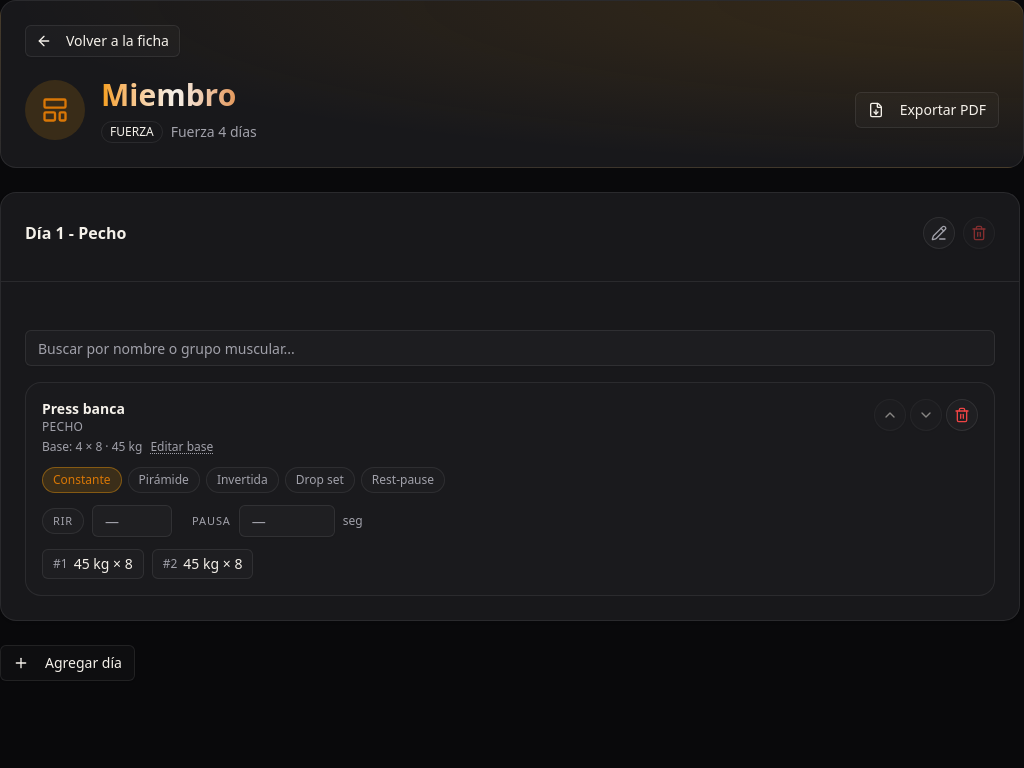
Scenario: editor de la copia de rutina de un Miembro › recalcula el plan de la copia al confirmar una base nueva, sin guardar
Expected: the text "Press banca" is shown, [42,399,125,418]
Click the button "Editar base" at (182, 447), box [150,439,213,455]
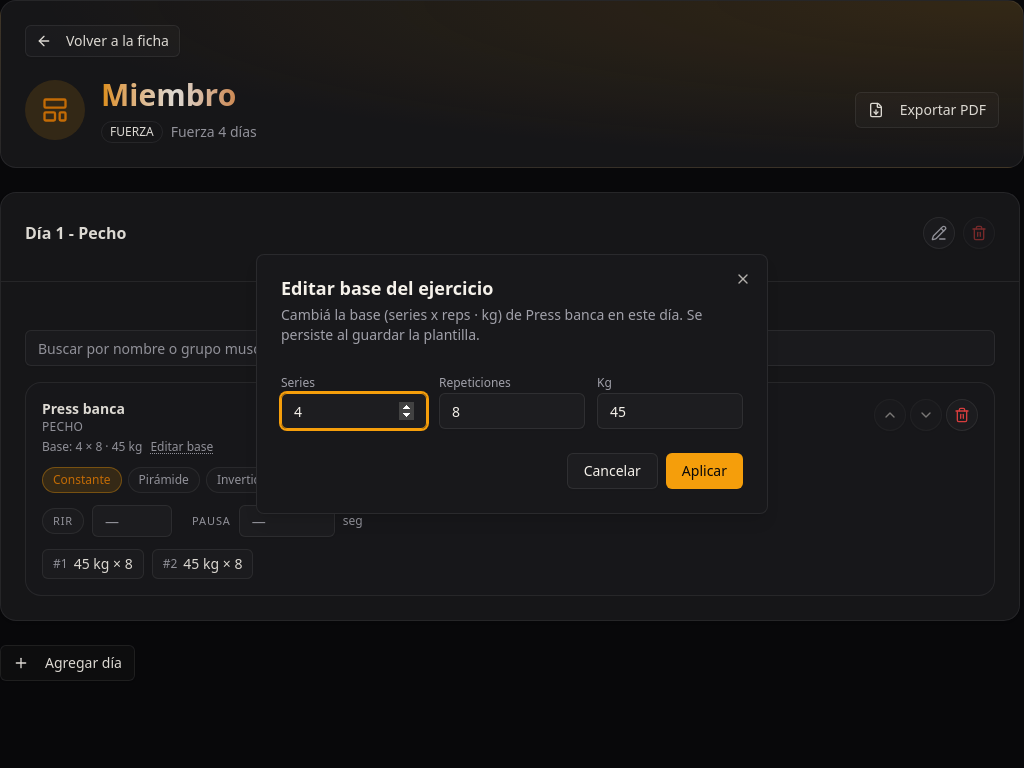
Replace the text in the 1st number field with "5" at (354, 411), box [281,393,427,429]
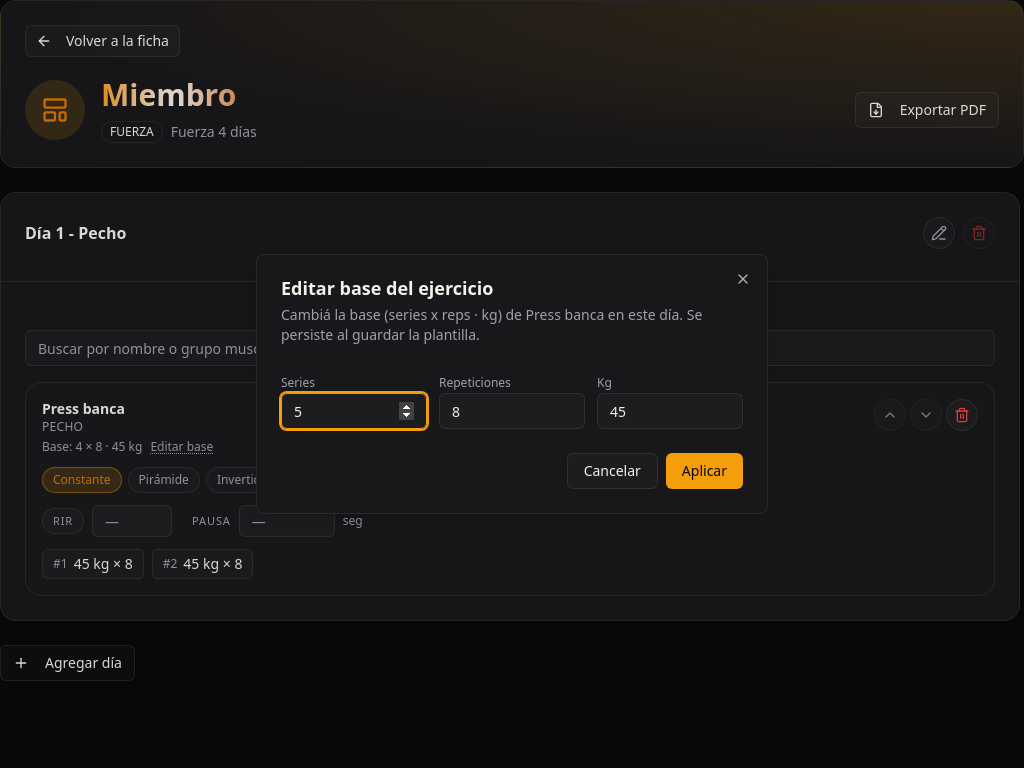
Replace the text in the number field below "Repeticiones" with "6" at (512, 411), box [439,393,585,429]
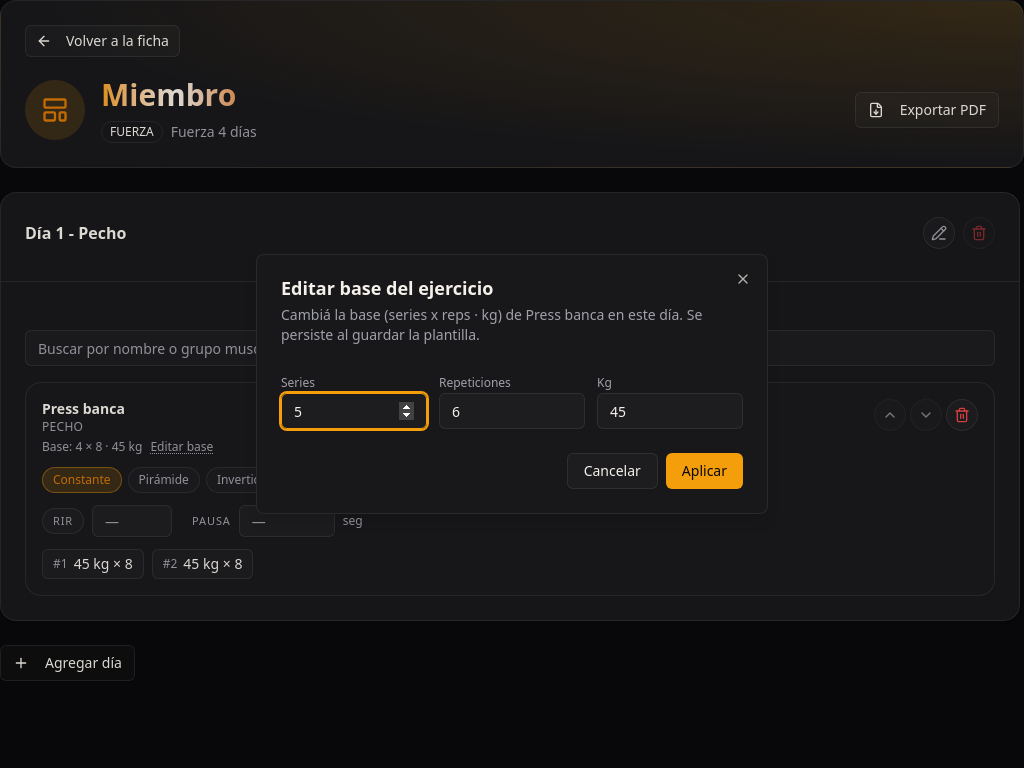
Replace the text in the 3rd number field with "50" at (670, 411), box [597,393,743,429]
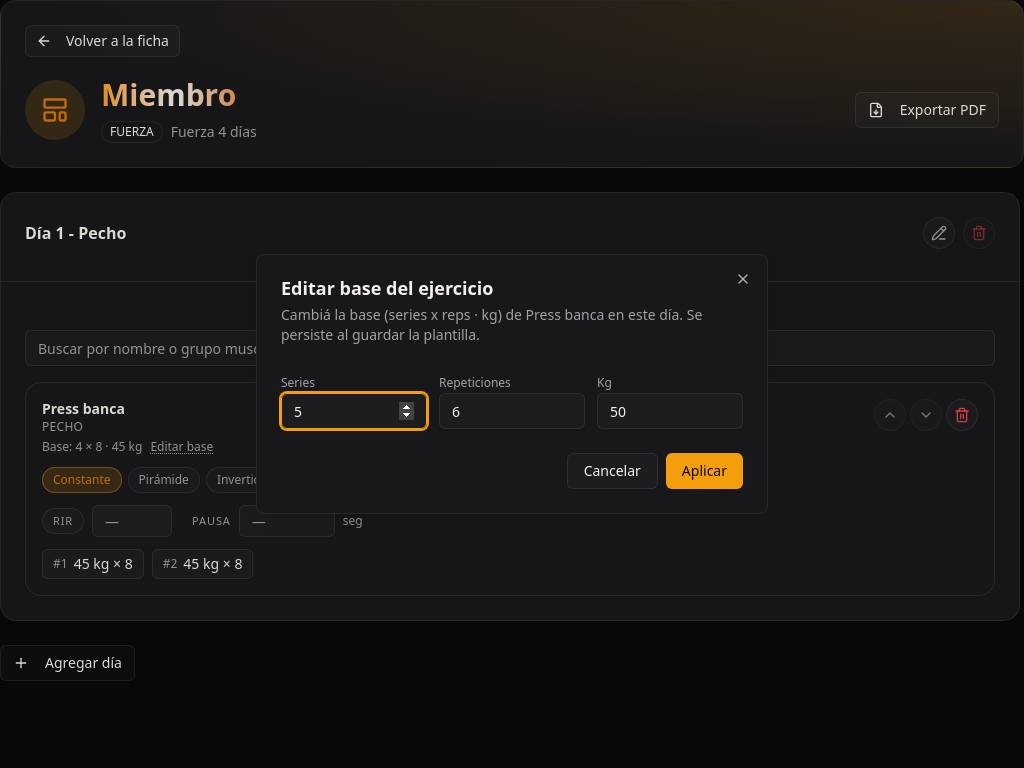
Click the button "Aplicar" at (704, 471), box [666,453,743,489]
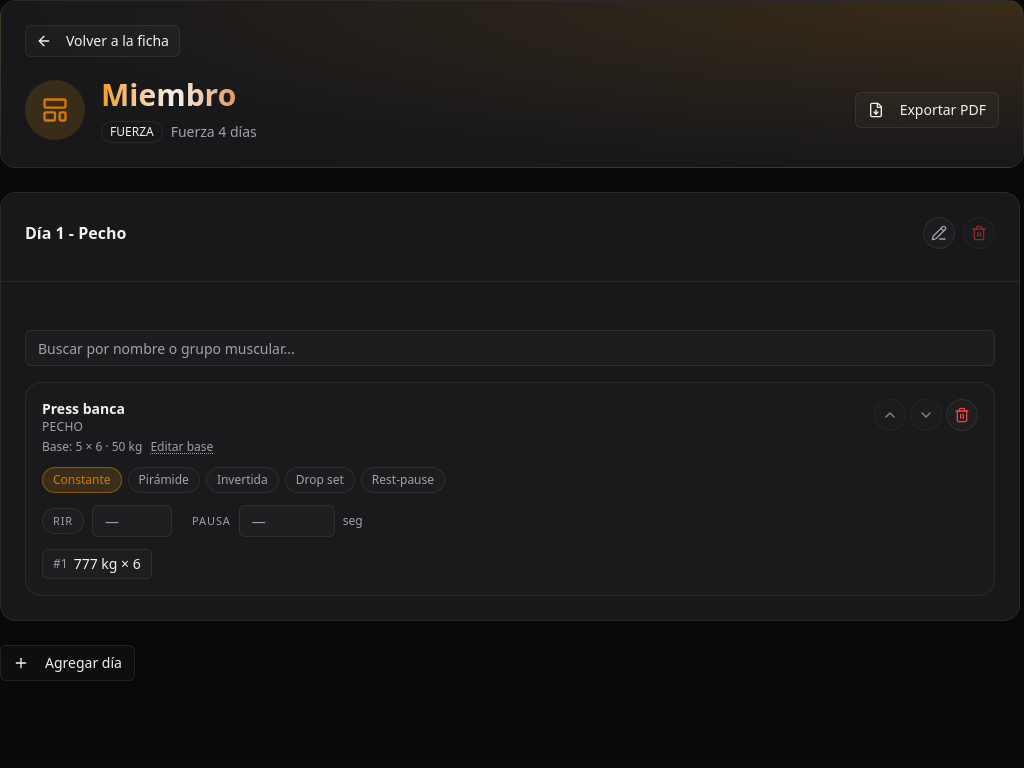
Expected: the text "777 kg × 6" is shown, [74,554,141,574]
